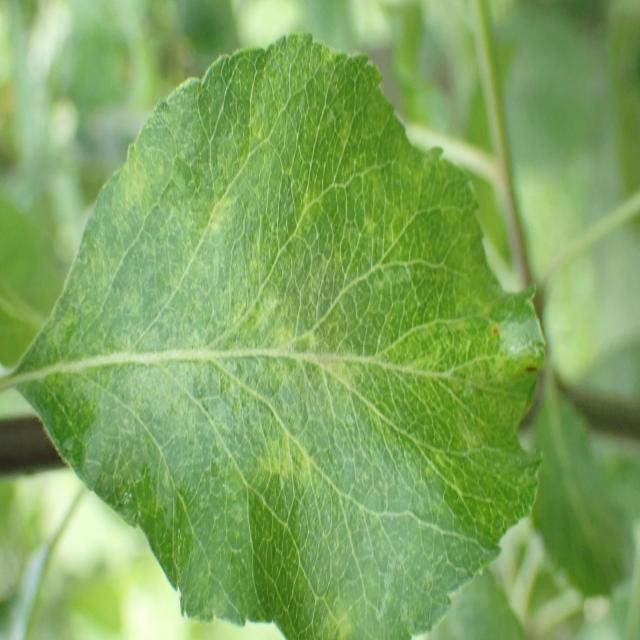scab: (62, 58, 522, 571)
